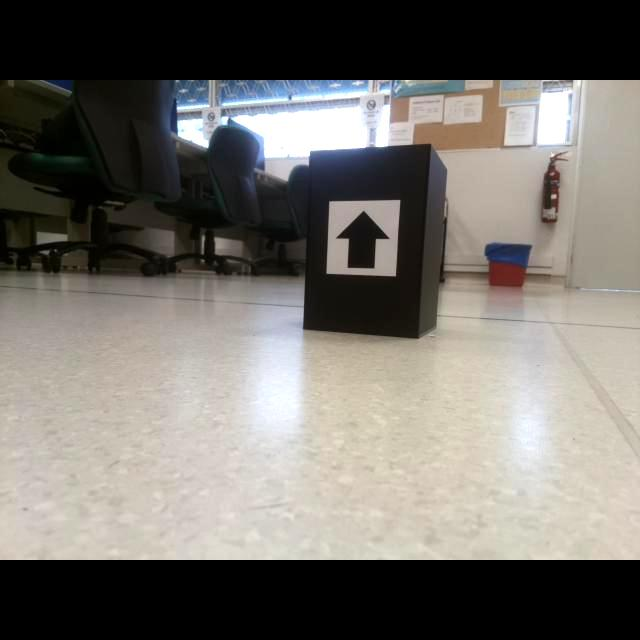UP: (334, 209, 392, 271)
